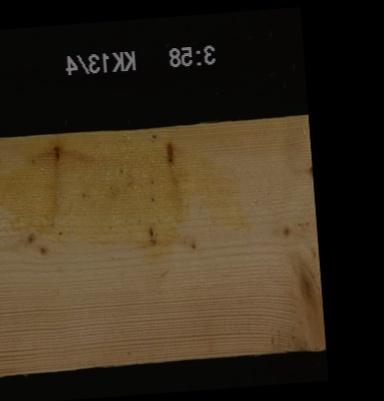small_knot: (272, 209, 316, 257), (307, 164, 311, 177)
